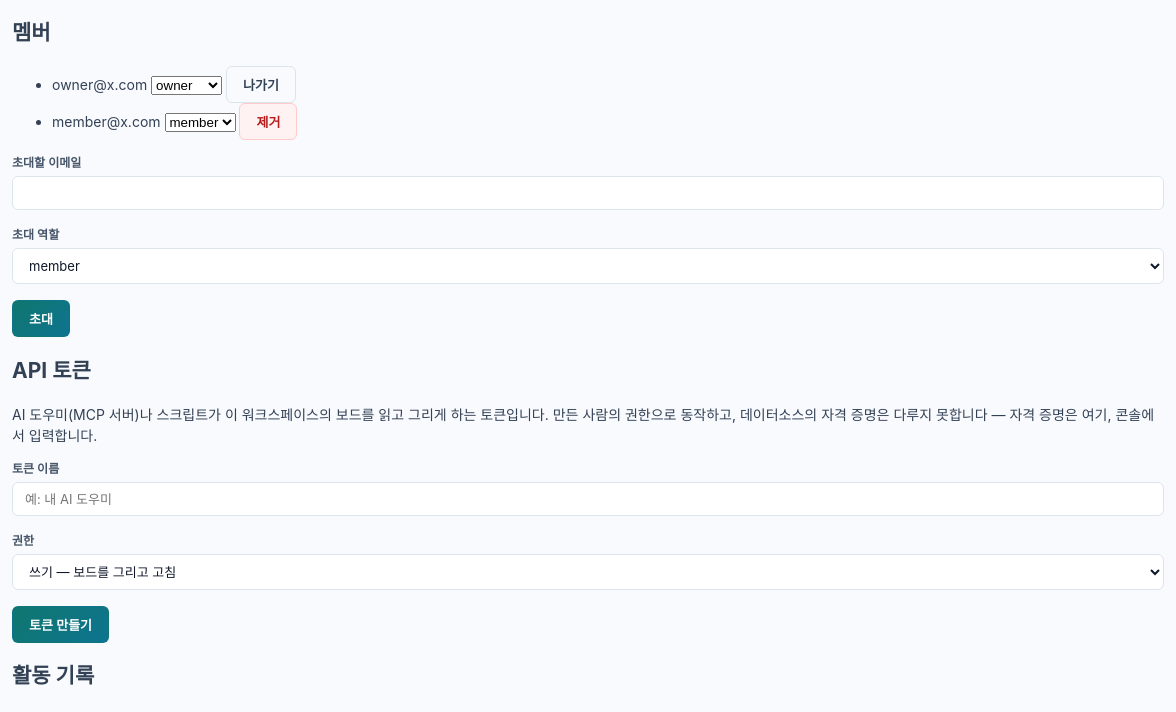
Test: SettingsPage › lets an owner remove another member after confirming
Click the button with aria-label "member@x.com 제거" at (268, 122), box [239,103,297,140]
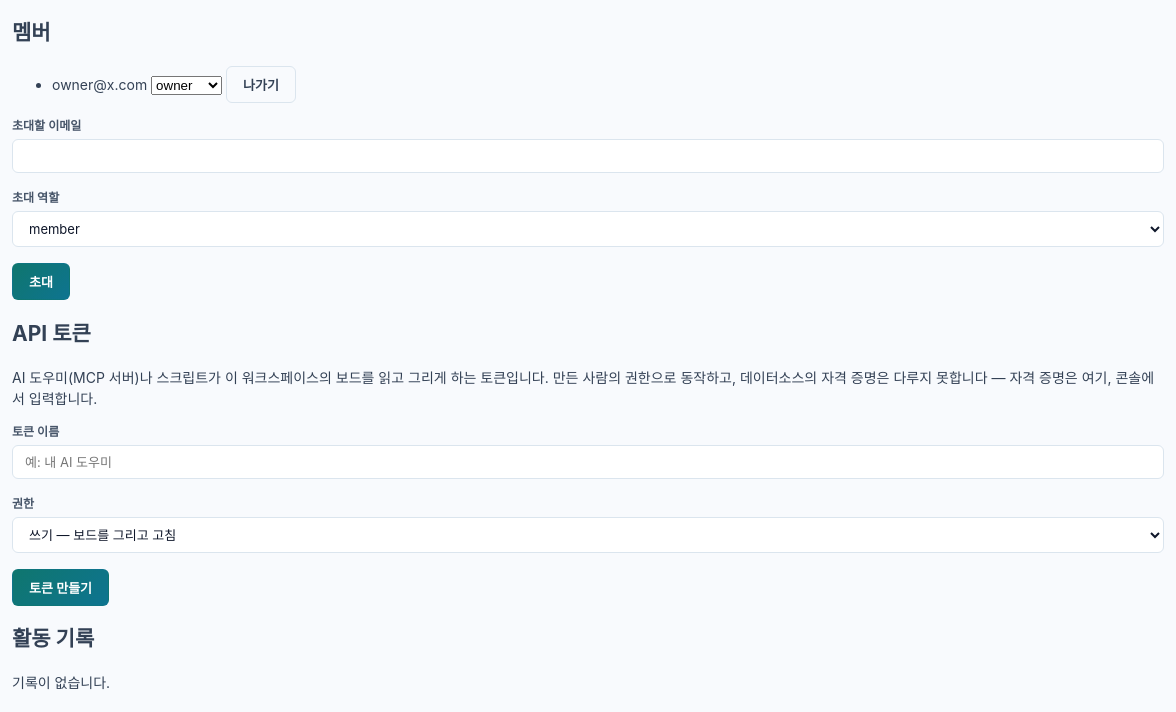
Now the text "member@x.com" is gone
